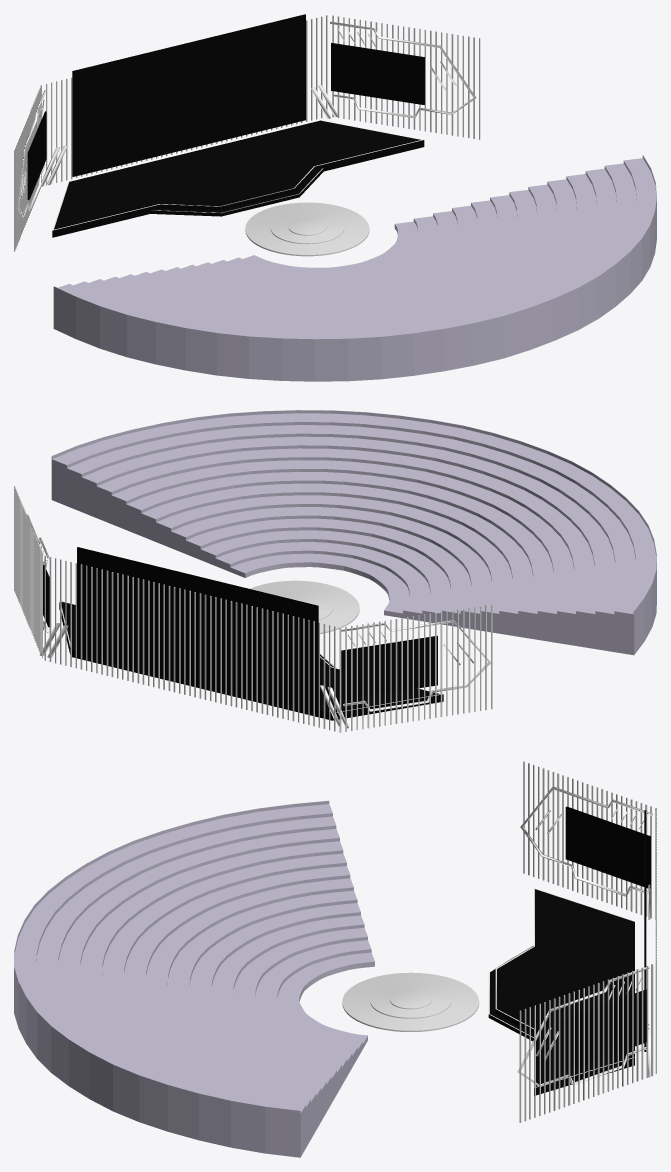
File: GL_Forum_tools.fbx
3 views of the same model, one above another, from view 1: azimuth 30°, elevation 25°; view 2: azimuth 150°, elevation 25°; view 3: azimuth 270°, elevation 25° (orthographic). The views are drawn at different scales.
Visible parts, largest first — view 1: Cube.002, Cube.003, Line059, Cylinder, Shape8.010, Куб.003, Shape3, Куб.002, Куб.001, Line060, Shape8.022; view 2: Cube.002, Cube.003, Куб.002, Куб.001, Shape8.022, Куб.003, Line059, Cylinder, Shape3; view 3: Cube.002, Line059, Куб.003, Cylinder, Куб.001, Shape8.022, Shape8.010, Shape3, Line060.
Part boxes in pixels (x1,y1,x2,y2): Cube.002: (53, 155, 656, 381); Cube.003: (72, 14, 305, 176); Line059: (52, 120, 424, 237); Cylinder: (245, 202, 369, 256); Shape8.010: (331, 43, 424, 104); Куб.003: (332, 15, 480, 139); Shape3: (17, 21, 476, 230); Куб.002: (46, 15, 327, 185); Куб.001: (14, 85, 41, 251); Line060: (150, 168, 323, 216); Shape8.022: (27, 111, 46, 200); Cube.002: (51, 410, 656, 655); Cube.003: (77, 547, 318, 715); Куб.002: (44, 555, 335, 731); Куб.001: (339, 604, 492, 732); Shape8.022: (341, 635, 437, 699); Куб.003: (14, 486, 42, 658); Line059: (59, 602, 443, 720); Cylinder: (250, 580, 359, 634); Shape3: (26, 514, 490, 728); Cube.002: (14, 800, 374, 1157); Line059: (495, 889, 634, 1095); Куб.003: (519, 964, 653, 1122); Cylinder: (342, 972, 479, 1031); Куб.001: (523, 761, 656, 919); Shape8.022: (565, 806, 650, 888); Shape8.010: (562, 989, 646, 1071); Shape3: (488, 786, 652, 1087); Line060: (488, 946, 533, 1041).
Size of the model in its own units: 1965 by 368 by 1721.
